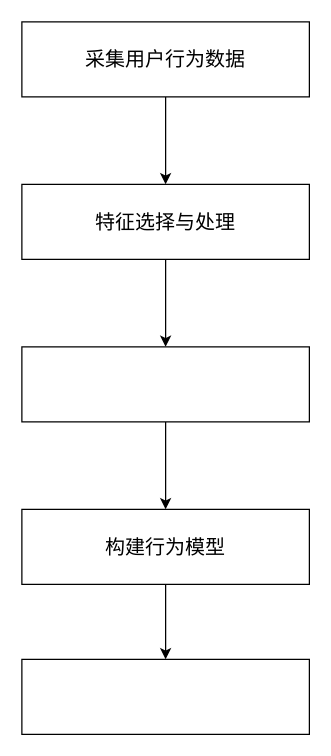
Some shapes in this 331 by 756 pixel diagram are drawn without their labels. Here are the shapes that lost their labels. From the top down, the box of each, then its label:
(21, 346, 309, 422): 快速离群点检测
(21, 658, 309, 734): joblib保存模型 内存快照
